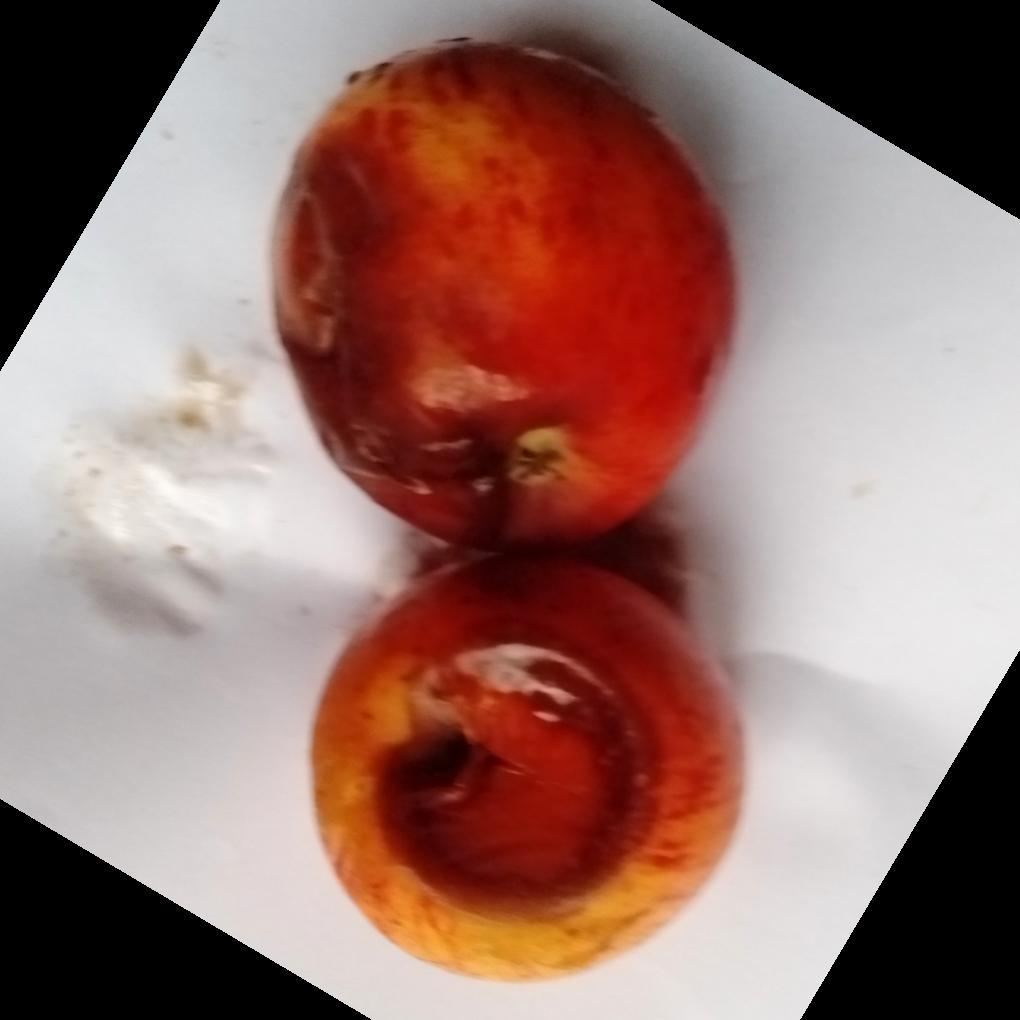FreshOrange: (265, 40, 746, 985)
